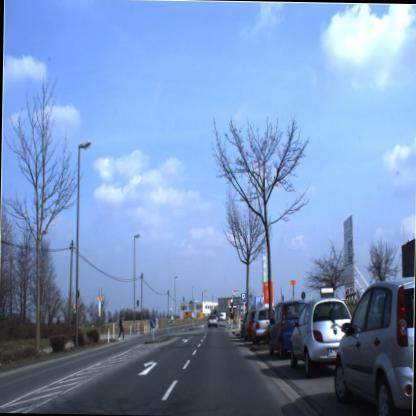mandatory: (148, 314, 157, 331)
